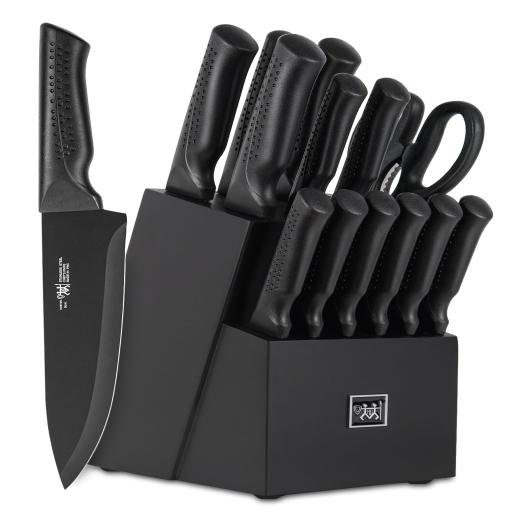knife: (41, 21, 129, 497)
